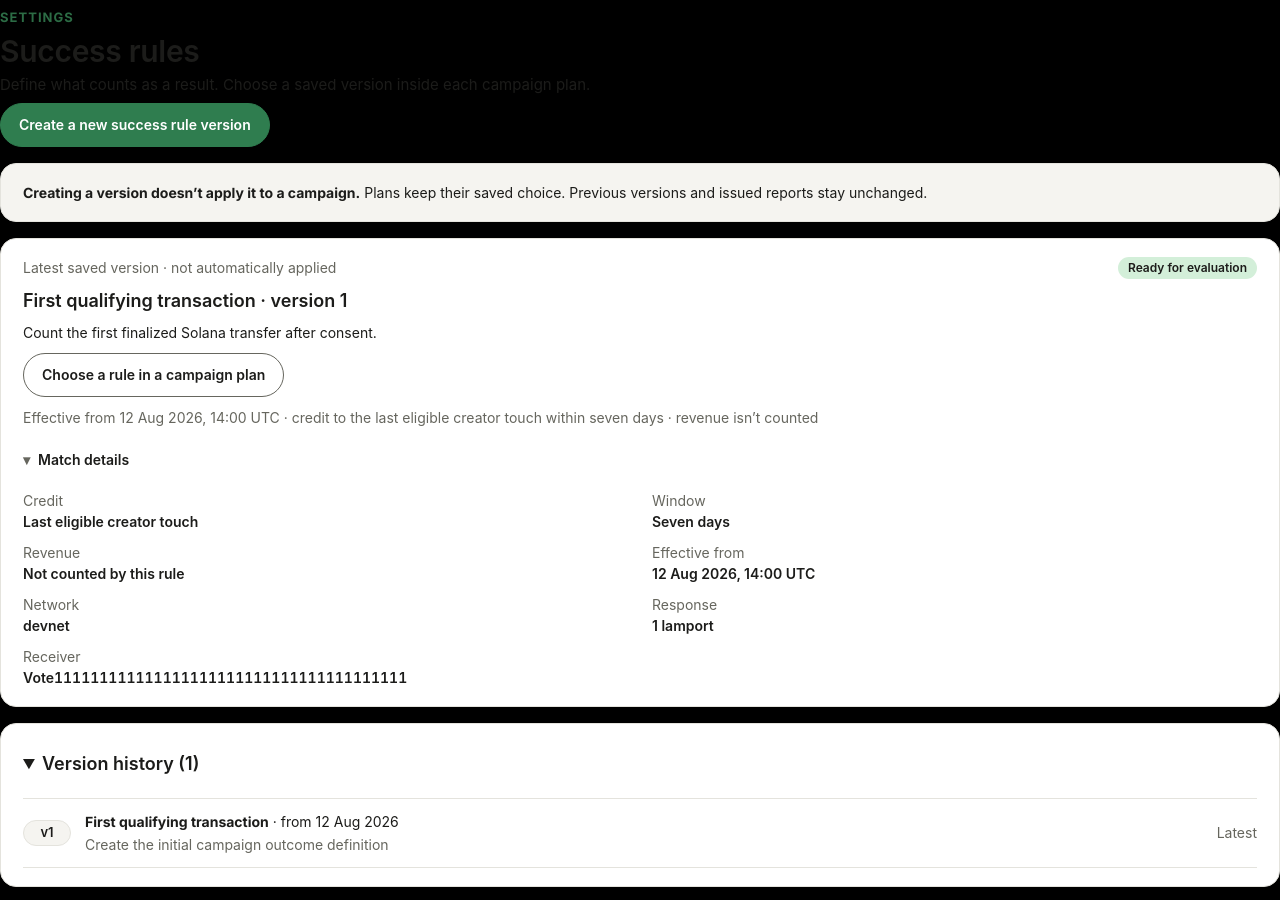
Test: conversion rule settings › reveals programme evidence requirements without claiming readiness
Click the button "Create a new success rule version" at (135, 124), box [0, 102, 270, 146]
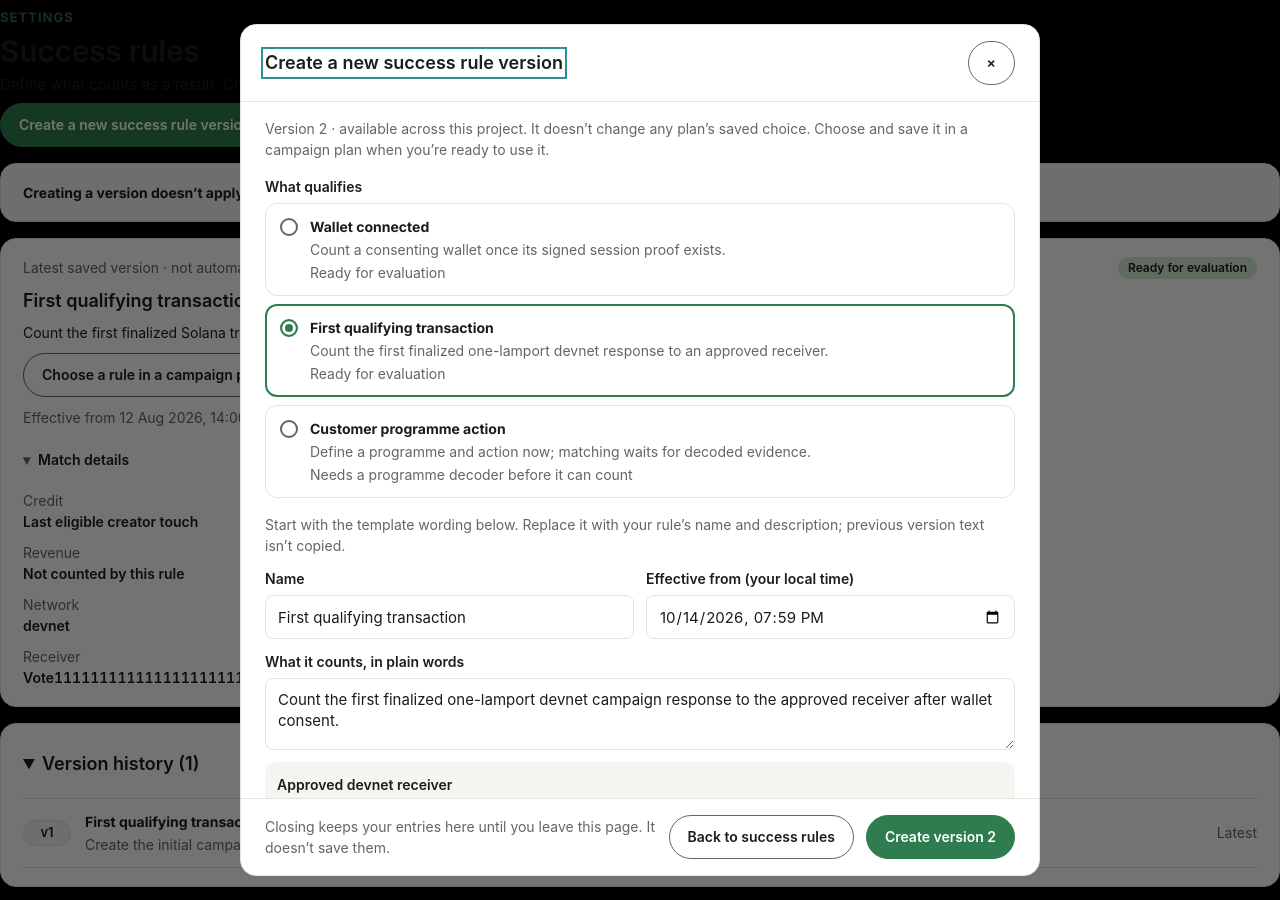
Click the button "Customer programme action" at (640, 452), box [265, 405, 1015, 498]
(page scrolled)
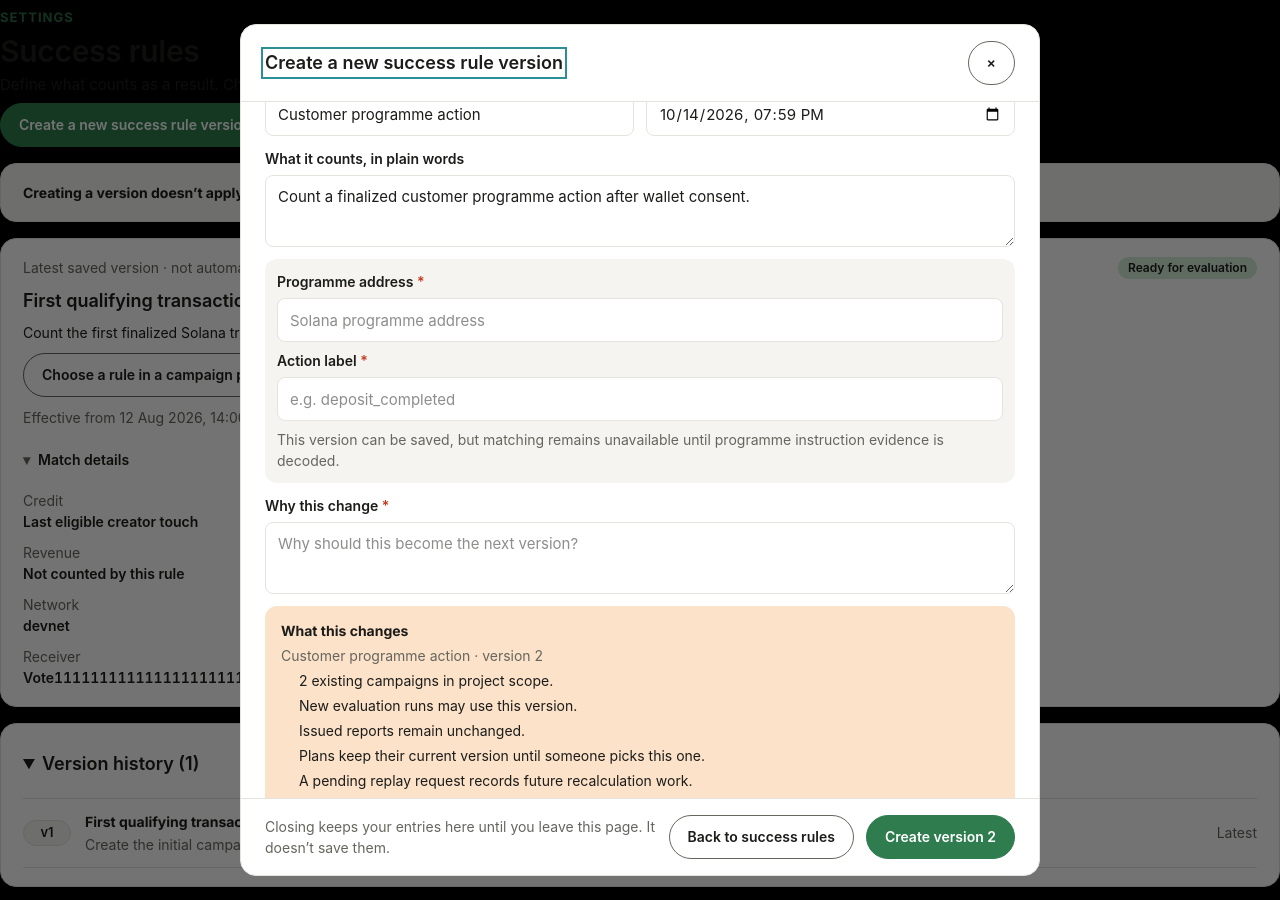
Expected: the field labelled "Programme address" is shown, [277, 298, 1003, 342]
Expected: the field labelled "Name" holds "Customer programme action", [265, 102, 634, 136]
Expected: the text "matching remains unavailable" is shown, [277, 431, 944, 469]
